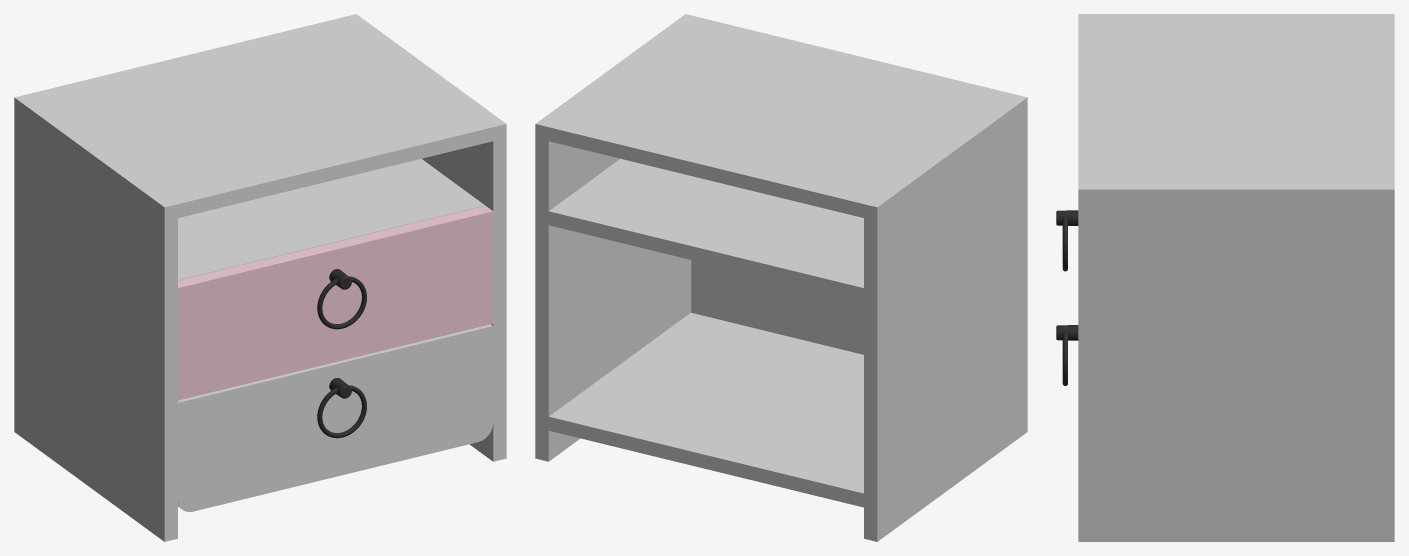
Rendered from nightstand_lara_pink.glb.
The picture shows the model from 3 angles, left to right: view 1: azimuth 30°, elevation 25°; view 2: azimuth 150°, elevation 25°; view 3: azimuth 270°, elevation 25°; orthographic projection. The views are drawn at different scales.
Parts seen in each view (by area): view 1: 3DGeom-1, 3DGeom-2, 3DGeom-3; view 2: 3DGeom-1; view 3: 3DGeom-1, 3DGeom-3.
Part boxes in pixels (bbox=[...]): 3DGeom-1: bbox=[14, 14, 506, 541]; 3DGeom-2: bbox=[178, 205, 493, 400]; 3DGeom-3: bbox=[317, 269, 366, 438]; 3DGeom-1: bbox=[535, 14, 1027, 541]; 3DGeom-1: bbox=[1078, 14, 1394, 541]; 3DGeom-3: bbox=[1056, 210, 1078, 385].
Bounding box in the file's own units: 0.46 × 0.43 × 0.3746.
